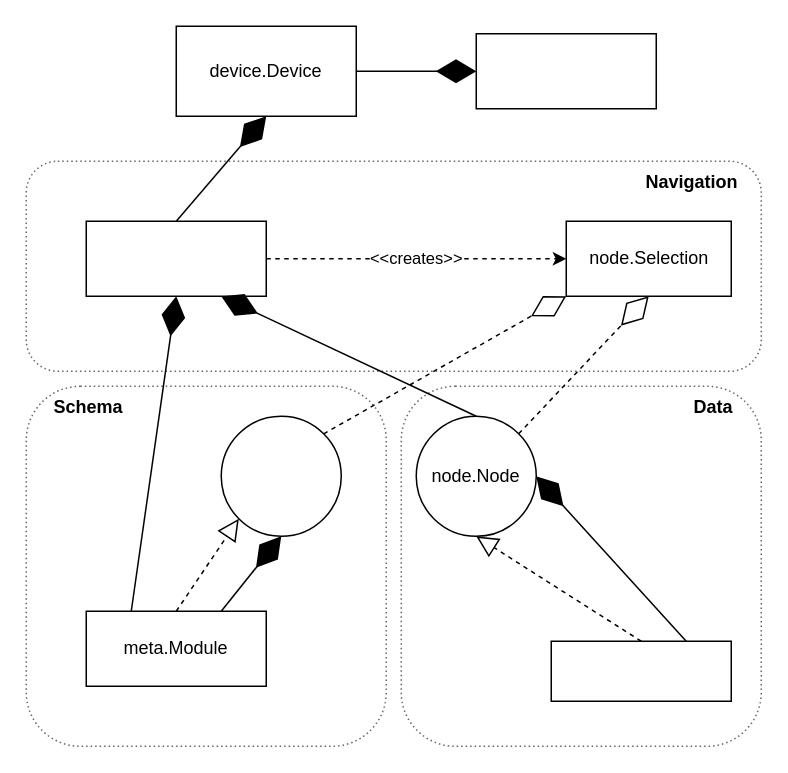
Some shapes in this 788 by 773 pixel diagram are drawn without their labels. Each missing label, with the centre of its shape:
"meta.Meta" belongs at [280,475].
"MyNode" belongs at [640,670].
"node.Browser" belongs at [175,258].
"restconf.Server" belongs at [565,70].
